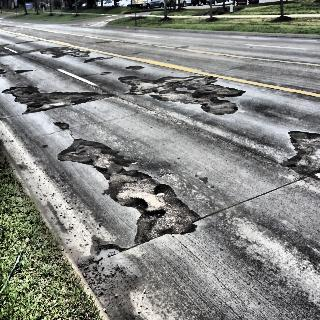pothole: (58, 135, 196, 240), (121, 67, 243, 121), (3, 82, 117, 121), (284, 128, 320, 172), (44, 44, 111, 66)
